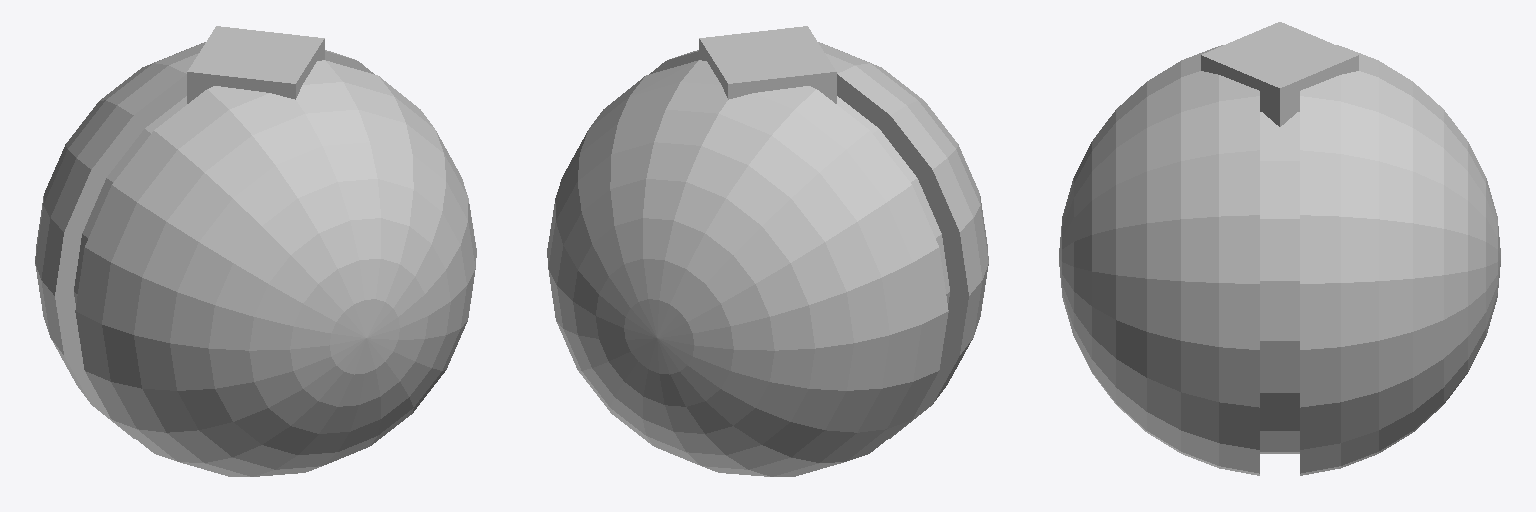
File: MiniClone.obj
3 views of the same model, side by side, from view 1: azimuth 30°, elevation 25°; view 2: azimuth 150°, elevation 25°; view 3: azimuth 270°, elevation 25° (orthographic).
Parts seen in each view (by area): view 1: Clone:pSphere2 Clone:polySurface2 Clone:polySurface3 Clone:polyS; view 2: Clone:pSphere2 Clone:polySurface2 Clone:polySurface3 Clone:polyS; view 3: Clone:pSphere2 Clone:polySurface2 Clone:polySurface3 Clone:polyS.
Part boxes in pixels (bbox=[...]): Clone:pSphere2 Clone:polySurface2 Clone:polySurface3 Clone:polyS: bbox=[35, 26, 476, 476]; Clone:pSphere2 Clone:polySurface2 Clone:polySurface3 Clone:polyS: bbox=[547, 26, 988, 476]; Clone:pSphere2 Clone:polySurface2 Clone:polySurface3 Clone:polyS: bbox=[1059, 22, 1500, 475].
Size of the model in its own units: 0.0938 by 0.0943 by 0.0942.